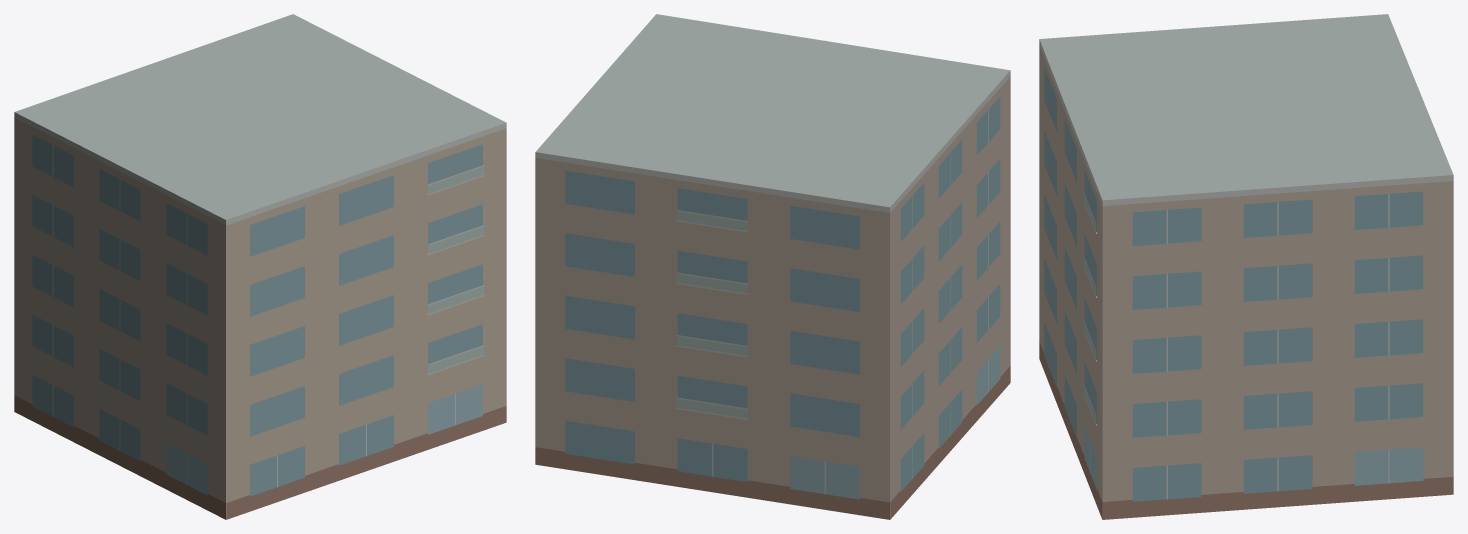
Rendered from survey-upis-32840922.glb.
3 views of the same model, side by side, from view 1: azimuth 30°, elevation 25°; view 2: azimuth 150°, elevation 25°; view 3: azimuth 270°, elevation 25° (orthographic). The views are drawn at different scales.
Visible parts, largest first — view 1: survey-upis-32840922.tmp; view 2: survey-upis-32840922.tmp; view 3: survey-upis-32840922.tmp.
Part boxes in pixels (x1,y1,x2,y2): survey-upis-32840922.tmp: (14,14,506,519); survey-upis-32840922.tmp: (535,14,1010,519); survey-upis-32840922.tmp: (1039,14,1453,519).
Bounding box in the file's own units: 16.64 × 13.3 × 15.64.
